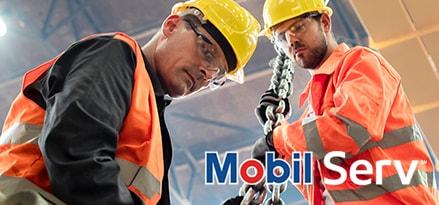helmet: (181, 1, 260, 75), (267, 1, 334, 31)
